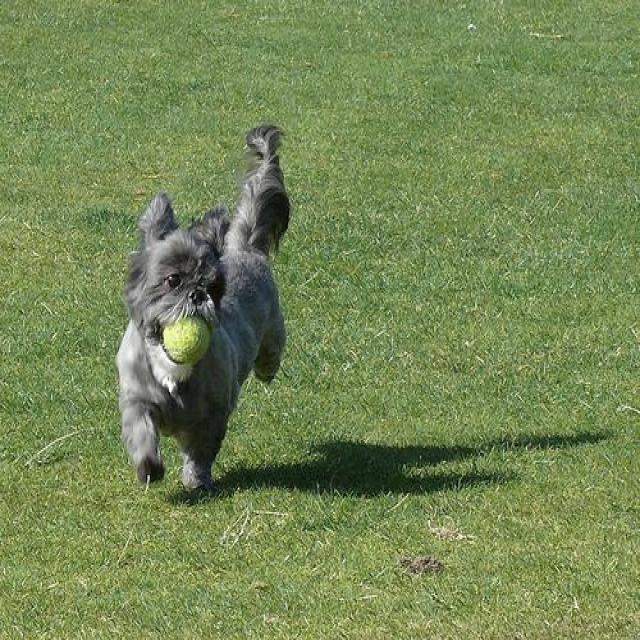shih_tzu: (112, 123, 290, 499)
